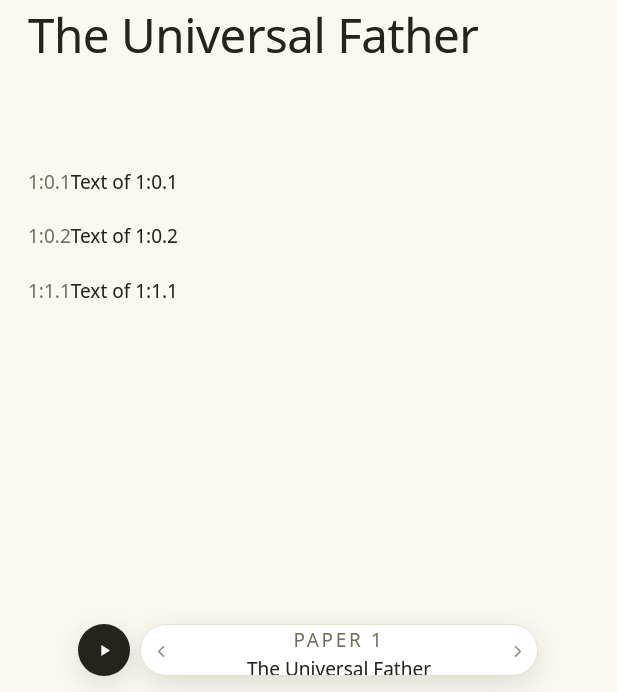
Test: a tap on a paragraph › marks the paragraph and shows its actions
The width and height of the screenshot is (617, 692).
What coordinates should you click on to do the following:
click the text "Text of 1:0.2"
I would click on:
 (103, 236)
Its box is [71,223,178,249].
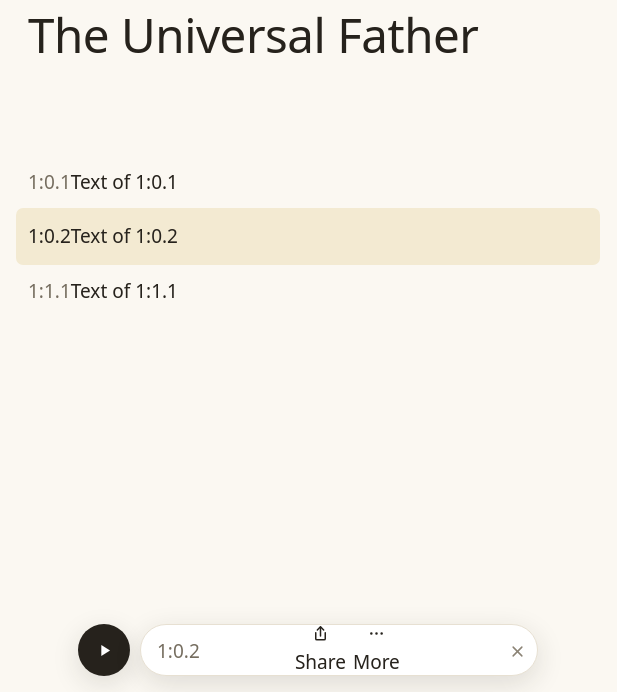
Expected: the text with test id "picked-ref" reads "1:0.2", [157,638,200,664]
Expected: the button "Share" is shown, [293,625,347,676]
